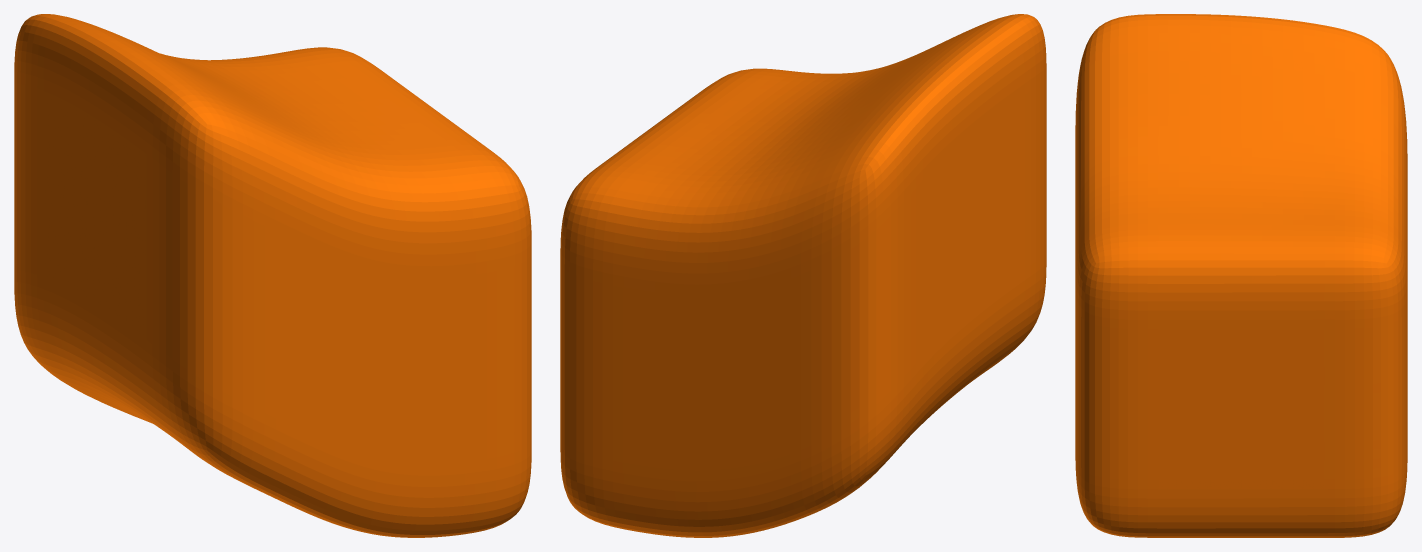
The picture shows the model from 3 angles, left to right: view 1: azimuth 30°, elevation 25°; view 2: azimuth 150°, elevation 25°; view 3: azimuth 270°, elevation 25°; orthographic projection. The views are drawn at different scales.
Visible parts, largest first — view 1: smooth_1_base.025; view 2: smooth_1_base.025; view 3: smooth_1_base.025.
Part boxes in pixels (x1,y1,x2,y2): smooth_1_base.025: [14, 14, 531, 537]; smooth_1_base.025: [560, 14, 1046, 537]; smooth_1_base.025: [1075, 14, 1407, 537].
Size of the model in its own units: 60 by 80.69 by 60.
